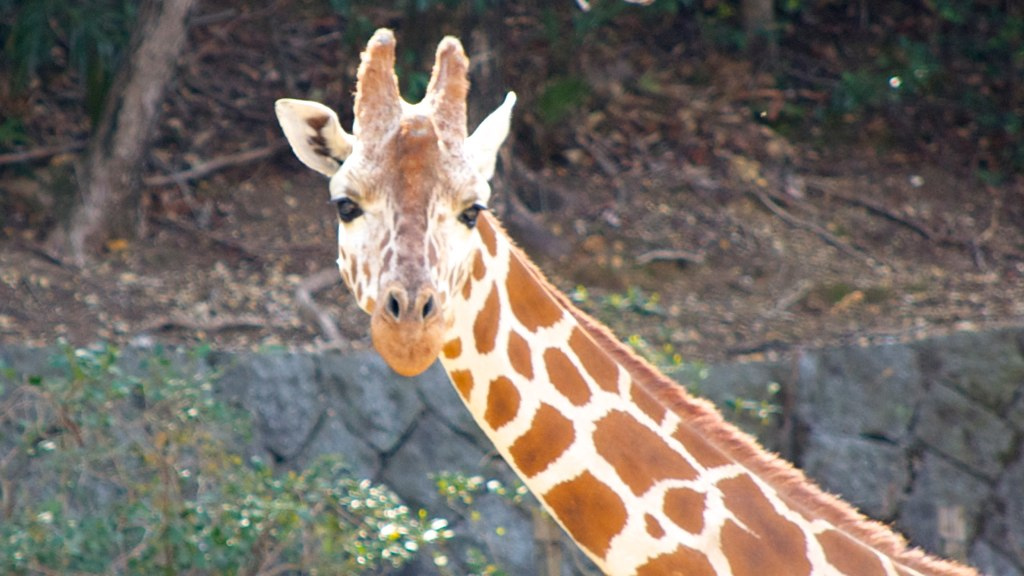giraffe: (226, 39, 1000, 570)
